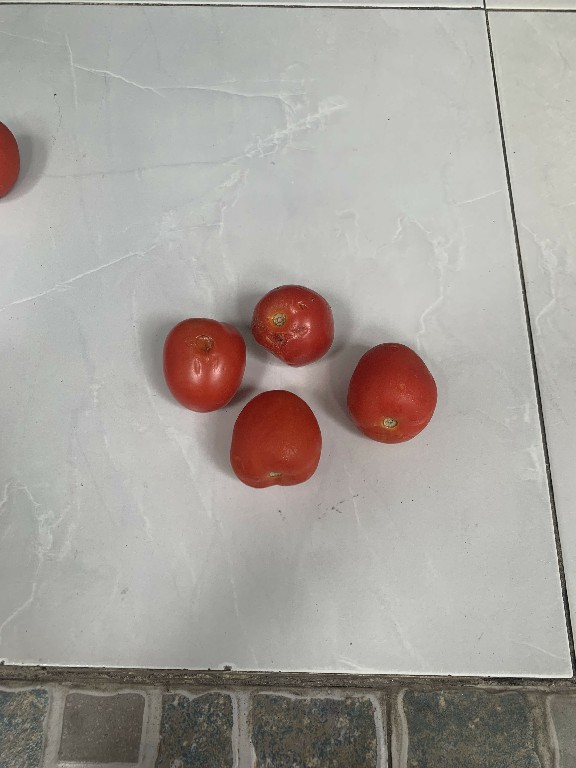NG: (158, 314, 244, 413), (248, 275, 337, 370)
OK: (221, 382, 332, 493), (338, 340, 449, 445)
